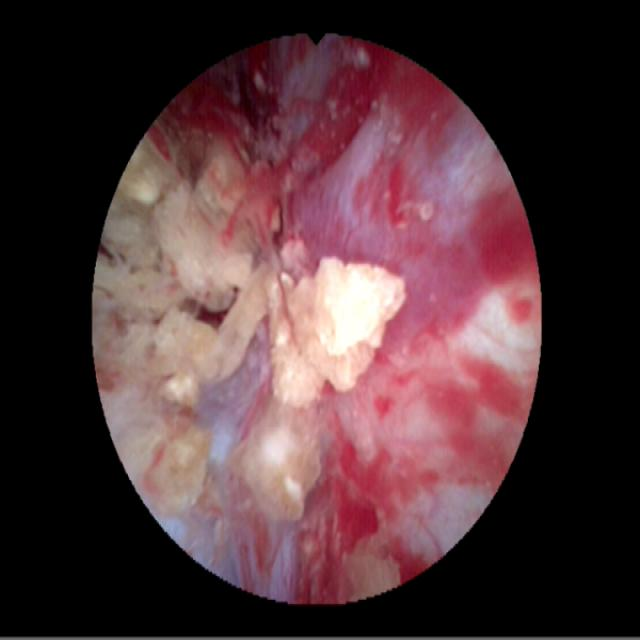stone: (101, 136, 406, 518), (102, 387, 206, 510), (344, 549, 398, 595)
